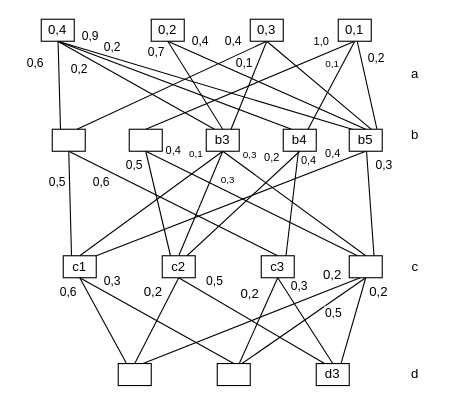
The diagram is 466 pixels wide and 410 high, and some of its shapes have lost their labels. The centre of each missing label's shape, as x and y in pixels:
"b1" belongs at (68,139).
"b2" belongs at (145,139).
"c4" belongs at (365,266).
"d1" belongs at (134,374).
"d2" belongs at (233,374).
